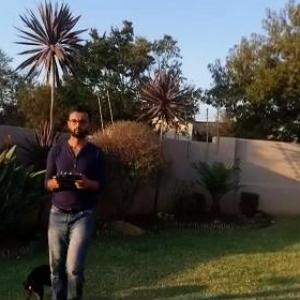follow: (39, 102, 108, 299)
